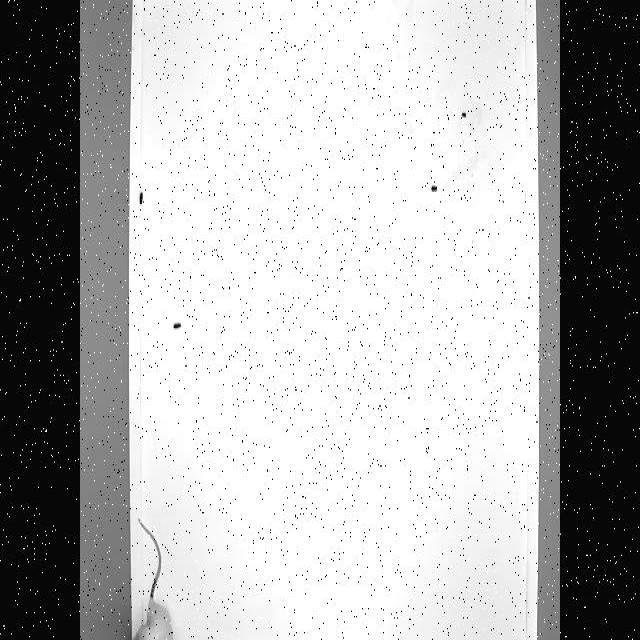rat: (128, 508, 172, 640)
